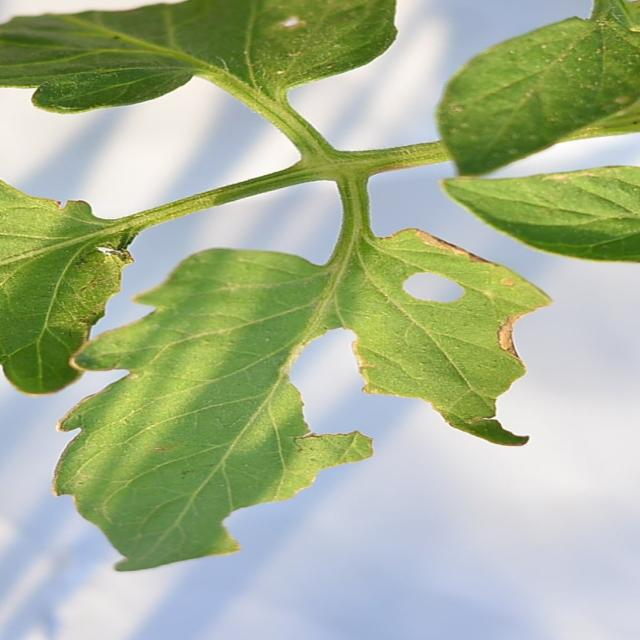infected: (44, 226, 558, 579)
